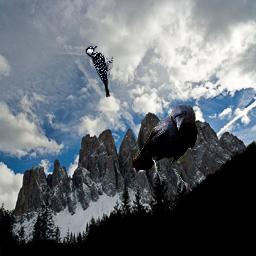Crow: (133, 104, 198, 193)
Woodpecker: (85, 44, 113, 97)
